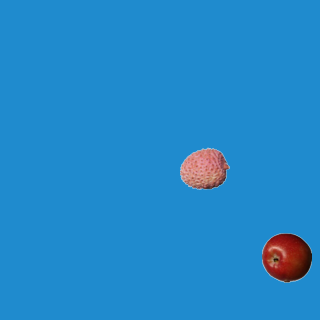Apple Braeburn: (261, 232, 311, 282)
Lychee: (179, 143, 229, 193)
